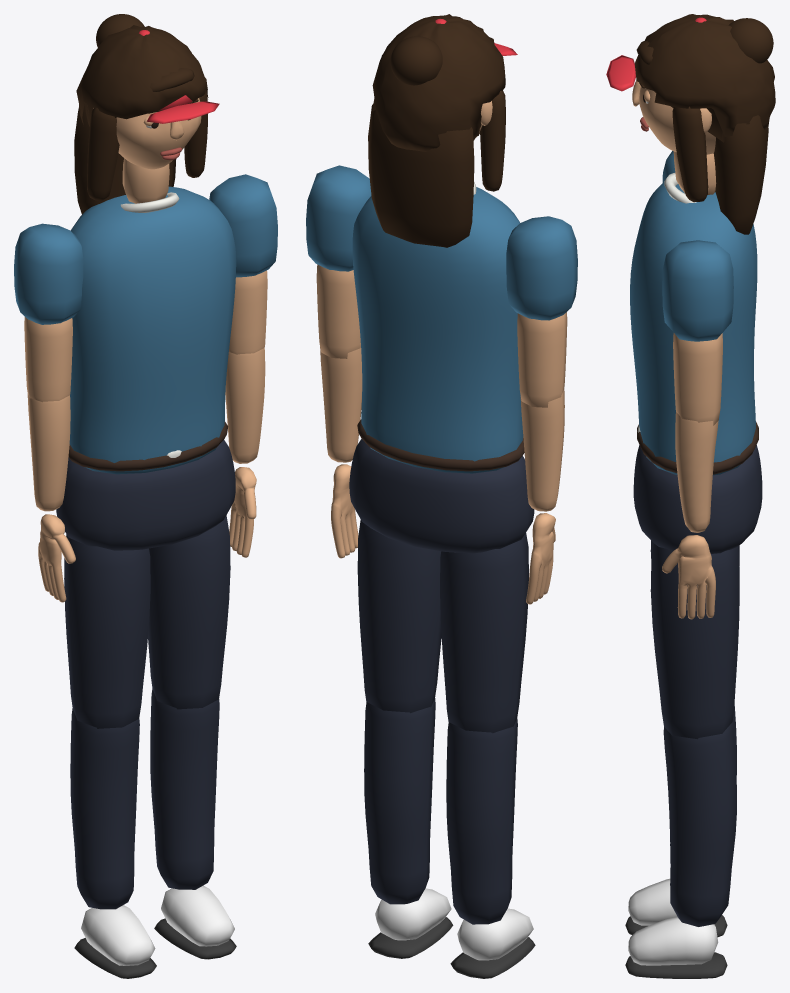
The model's file is people.glb.
The picture shows the model from 3 angles, left to right: view 1: azimuth 30°, elevation 25°; view 2: azimuth 150°, elevation 25°; view 3: azimuth 270°, elevation 25°; orthographic projection. The views are drawn at different scales.
Parts seen in each view (by area): view 1: Body, ShinR, ShinL, LegR, LegL, ArmR, HairCurly, ArmL, ForearmR, ForearmL, HairLong, Cap (+2 smaller); view 2: Body, ShinR, ShinL, LegR, LegL, HairLong, HairCurly, ArmR, ArmL, ForearmR, ForearmL, HairBun; view 3: Body, ShinL, LegL, HairCurly, ArmL, HairLong, ForearmL, ShinR, HairBun, Cap.
Boxes of the visible parts, bbox=[...] form: Body: bbox=[56, 98, 236, 550]; ShinR: bbox=[70, 708, 156, 978]; ShinL: bbox=[150, 689, 236, 959]; LegR: bbox=[64, 534, 150, 728]; LegL: bbox=[148, 515, 230, 709]; ArmR: bbox=[14, 223, 83, 402]; HairCurly: bbox=[76, 25, 208, 124]; ArmL: bbox=[209, 174, 277, 354]; ForearmR: bbox=[27, 393, 75, 602]; ForearmL: bbox=[225, 348, 265, 557]; HairLong: bbox=[74, 90, 207, 214]; Cap: bbox=[139, 30, 219, 123]; Body: bbox=[349, 101, 534, 553]; ShinR: bbox=[446, 718, 535, 978]; ShinL: bbox=[364, 698, 453, 958]; LegR: bbox=[440, 533, 528, 733]; LegL: bbox=[357, 520, 441, 713]; HairLong: bbox=[368, 90, 505, 247]; HairCurly: bbox=[372, 14, 505, 151]; ArmR: bbox=[506, 216, 577, 407]; ArmL: bbox=[306, 165, 371, 358]; ForearmR: bbox=[520, 389, 564, 604]; ForearmL: bbox=[320, 347, 362, 558]; HairBun: bbox=[390, 36, 442, 85]; Body: bbox=[630, 80, 762, 553]; ShinL: bbox=[625, 722, 736, 978]; LegL: bbox=[650, 543, 739, 739]; HairCurly: bbox=[635, 14, 775, 136]; ArmL: bbox=[662, 240, 733, 425]; HairLong: bbox=[654, 91, 768, 234]; ForearmL: bbox=[662, 412, 718, 619]; ShinR: bbox=[625, 705, 736, 937]; HairBun: bbox=[707, 18, 773, 113]; Cap: bbox=[606, 17, 706, 91].
Size of the model in its own units: 0.5238 by 1.79 by 0.2949.
